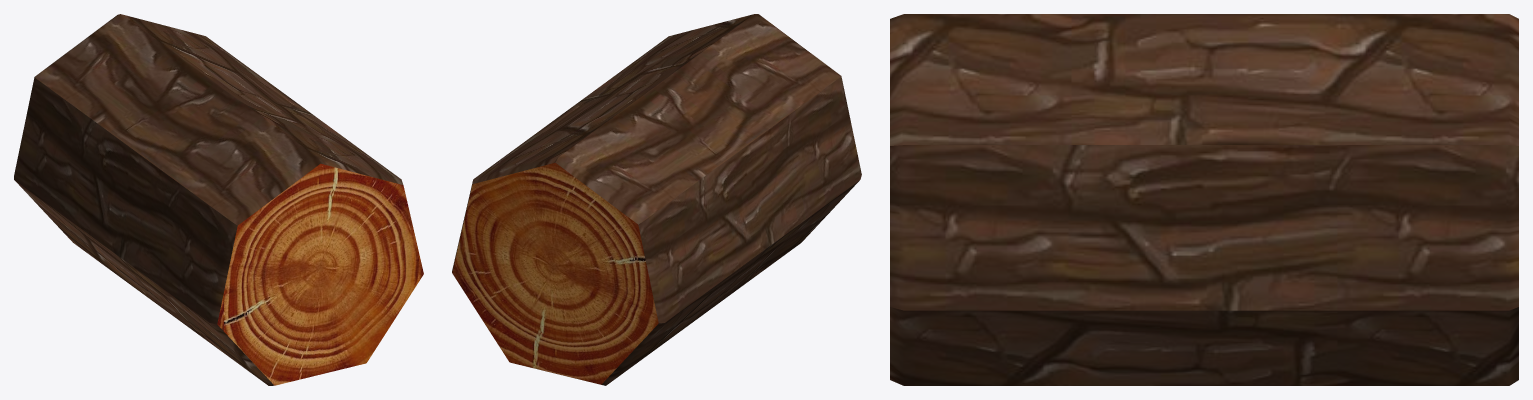
File: OniscideaCollectable.fbx
The picture shows the model from 3 angles, left to right: view 1: azimuth 30°, elevation 25°; view 2: azimuth 150°, elevation 25°; view 3: azimuth 270°, elevation 25°; orthographic projection. The views are drawn at different scales.
Parts seen in each view (by area): view 1: Oniscidea_obj_CollectableLog:pCylinder3; view 2: Oniscidea_obj_CollectableLog:pCylinder3; view 3: Oniscidea_obj_CollectableLog:pCylinder3.
Part boxes in pixels (<box>): Oniscidea_obj_CollectableLog:pCylinder3: <box>14,14,423,385</box>; Oniscidea_obj_CollectableLog:pCylinder3: <box>452,14,861,385</box>; Oniscidea_obj_CollectableLog:pCylinder3: <box>890,14,1518,385</box>.
Size of the model in its own units: 1.29 by 1.25 by 2.12.
